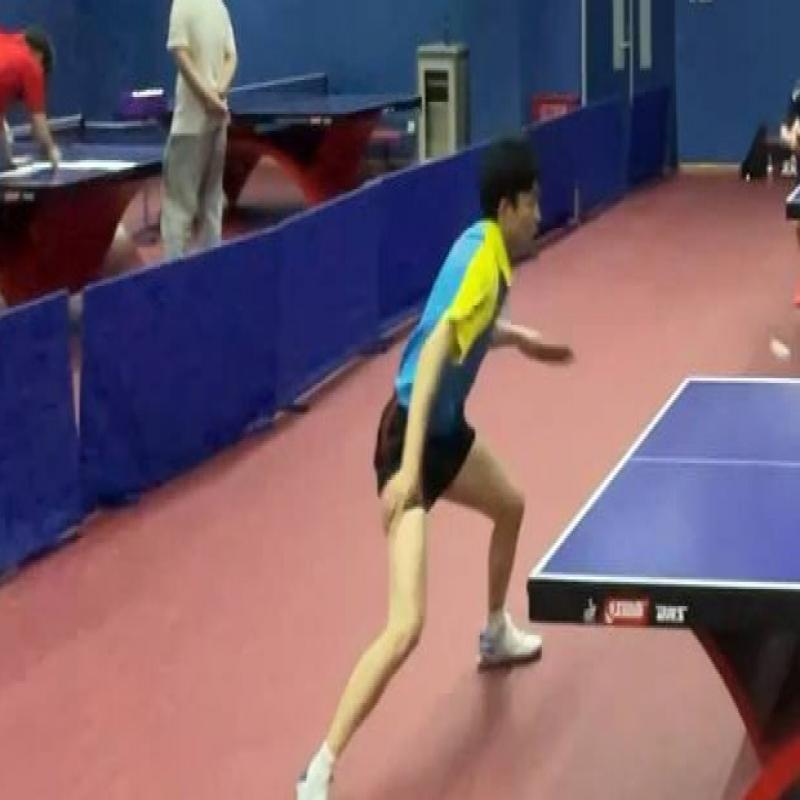bats: (525, 305, 577, 383)
